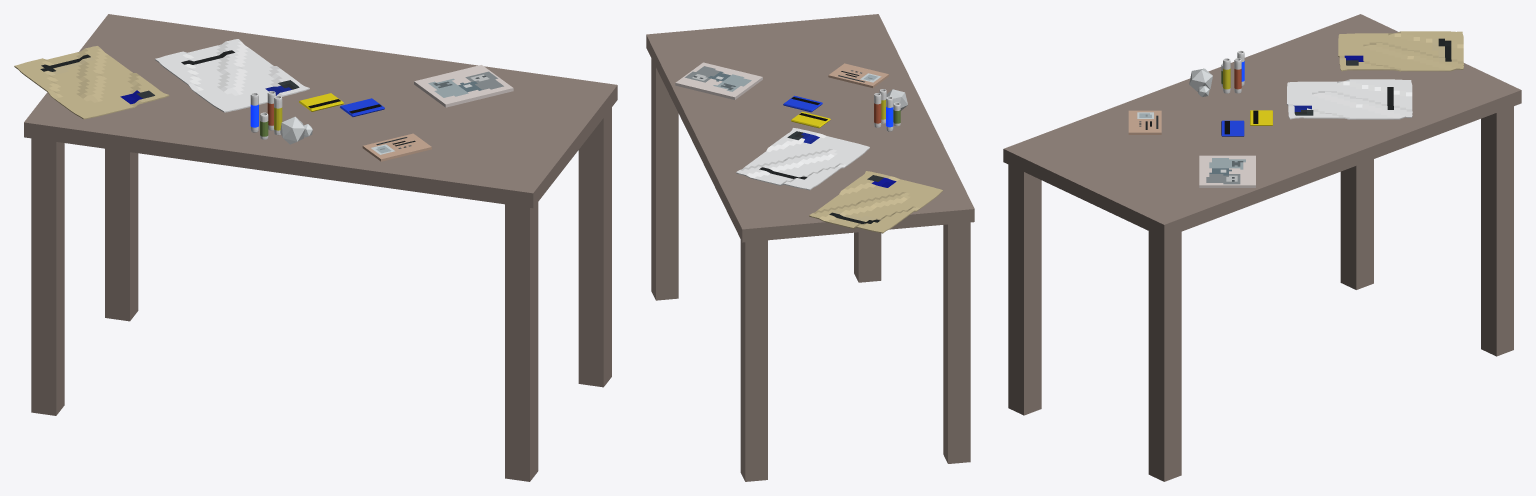
Rendered from collectables.fbx.
The picture shows the model from 3 angles, left to right: view 1: azimuth 30°, elevation 25°; view 2: azimuth 150°, elevation 25°; view 3: azimuth 270°, elevation 25°; orthographic projection. The views are drawn at different scales.
Parts seen in each view (by area): view 1: table.001, Panchin, Drosdov, photo with famili, analisi, voditelskie prava; view 2: table.001, Drosdov, Panchin, photo with famili, analisi, voditelskie prava, Key 2, Key 1; view 3: table.001, Panchin, Drosdov, photo with famili, analisi, voditelskie prava.
Boxes of the visible parts, x1,y1,x2,y2 form: table.001: (24, 14, 617, 481); Panchin: (14, 46, 169, 119); Drosdov: (155, 39, 309, 112); photo with famili: (414, 65, 513, 107); analisi: (250, 91, 312, 144); voditelskie prava: (362, 133, 431, 161); table.001: (646, 14, 974, 481); Drosdov: (736, 128, 869, 190); Panchin: (809, 171, 942, 233); photo with famili: (675, 62, 762, 99); analisi: (874, 89, 907, 131); voditelskie prava: (828, 63, 888, 87); Key 2: (783, 95, 822, 112); Key 1: (791, 111, 830, 128); table.001: (1003, 14, 1521, 481); Panchin: (1338, 31, 1463, 71); Drosdov: (1286, 79, 1412, 119); photo with famili: (1199, 155, 1255, 187); analisi: (1189, 50, 1244, 96); voditelskie prava: (1128, 110, 1161, 134).
Bounding box in the file's own units: 182 × 118 × 189.
